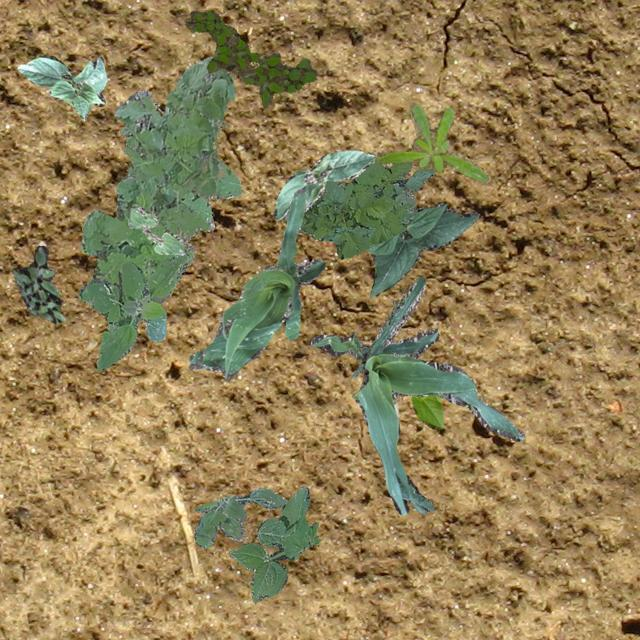crop: (310, 276, 524, 514), (188, 188, 324, 378), (366, 200, 478, 296), (272, 150, 374, 218), (17, 54, 106, 120), (126, 204, 186, 253), (410, 392, 442, 428)
weed: (80, 55, 242, 288), (297, 158, 433, 258), (78, 252, 188, 370), (184, 10, 316, 106), (228, 486, 320, 602), (374, 102, 490, 182), (194, 487, 286, 548), (12, 245, 64, 322)
